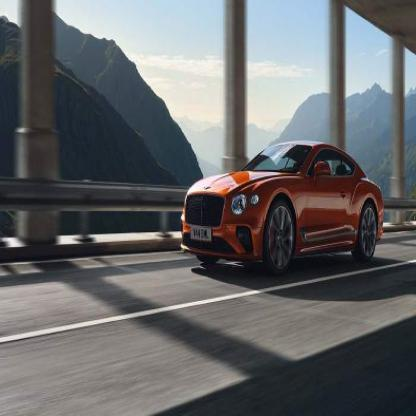car: (182, 139, 384, 261)
